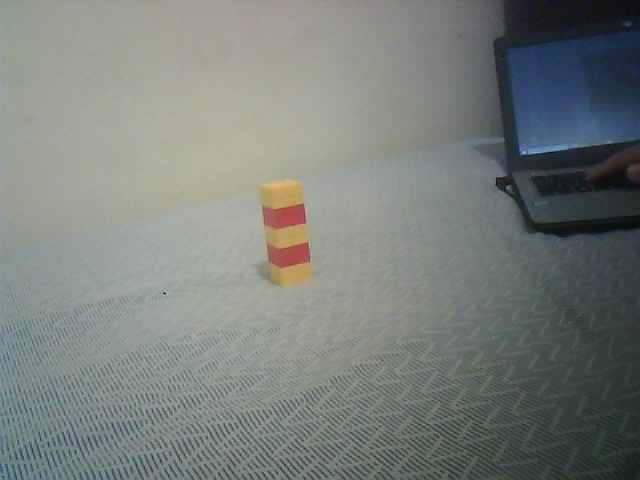lego: (258, 178, 314, 288)
